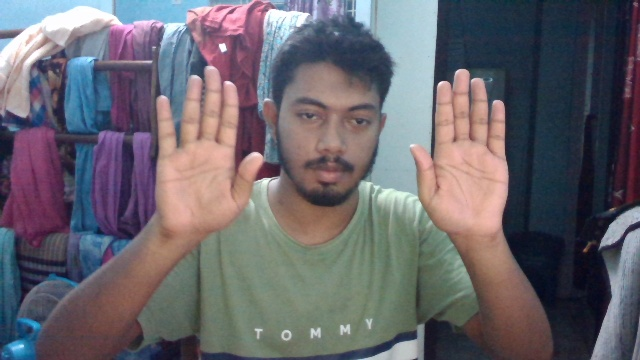thanks: (146, 69, 510, 241)
